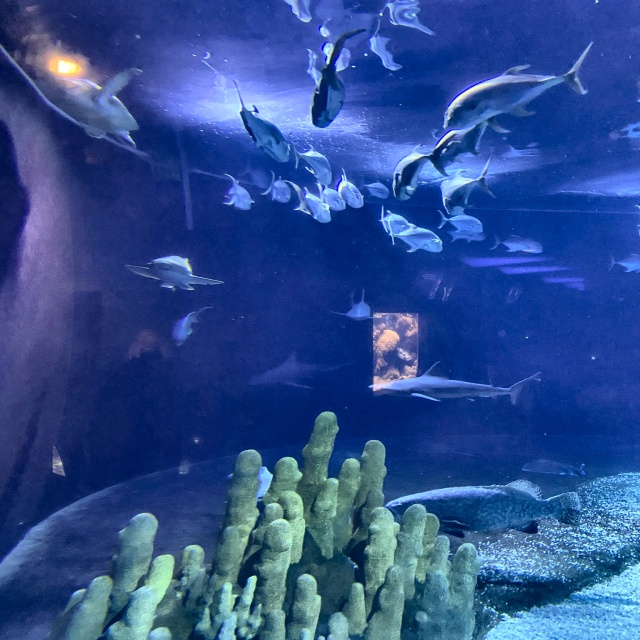fish: (444, 42, 595, 130), (385, 480, 583, 539), (312, 28, 365, 128), (393, 138, 450, 202), (432, 124, 494, 175), (440, 158, 494, 213), (240, 107, 291, 163), (290, 183, 332, 223), (389, 224, 444, 254), (295, 145, 332, 181), (223, 174, 255, 209), (491, 234, 543, 255), (437, 210, 484, 233), (339, 170, 365, 208), (316, 181, 347, 212), (263, 170, 289, 202), (379, 208, 411, 233), (449, 229, 486, 244), (609, 254, 639, 272), (361, 181, 389, 199)
shark: (368, 361, 541, 405), (248, 352, 360, 388), (125, 255, 224, 291), (330, 288, 393, 320), (171, 306, 210, 346)
stingray: (524, 458, 587, 478)
